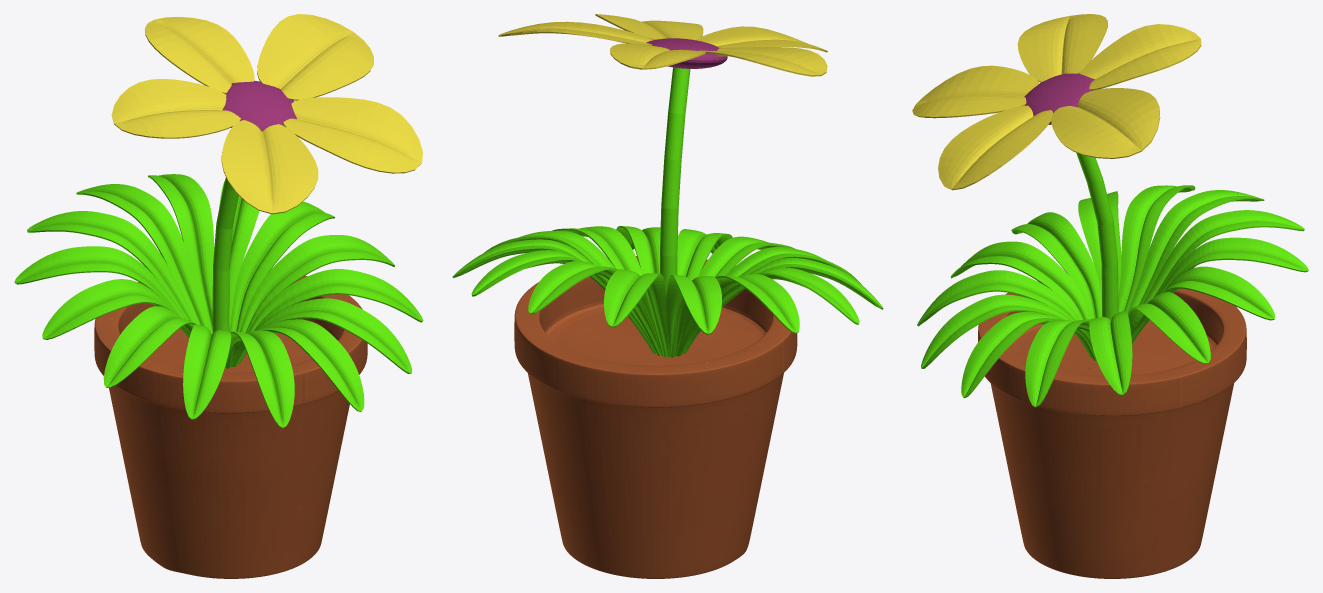
The model's file is flower pot1.fbx.
The picture shows the model from 3 angles, left to right: view 1: azimuth 30°, elevation 25°; view 2: azimuth 150°, elevation 25°; view 3: azimuth 270°, elevation 25°; orthographic projection. The views are drawn at different scales.
Visible parts, largest first — view 1: Plane.002, Big Plant Pot, Plane.003, FLowerPot; view 2: Big Plant Pot, Plane.002, Plane.003, FLowerPot; view 3: Big Plant Pot, Plane.002, Plane.003, FLowerPot.
Boxes of the visible parts, <box> form: Plane.002: <box>14,174,423,428</box>; Big Plant Pot: <box>94,275,367,578</box>; Plane.003: <box>111,14,422,214</box>; FLowerPot: <box>212,80,296,332</box>; Big Plant Pot: <box>514,256,797,578</box>; Plane.002: <box>452,226,883,357</box>; Plane.003: <box>498,14,827,76</box>; FLowerPot: <box>646,38,727,293</box>; Big Plant Pot: <box>978,281,1246,578</box>; Plane.002: <box>917,185,1308,407</box>; Plane.003: <box>912,14,1201,190</box>; FLowerPot: <box>1024,73,1118,319</box>.
Size of the model in its own units: 27.41 by 36.36 by 26.51.
Materials: 4 (1 with a texture image).
